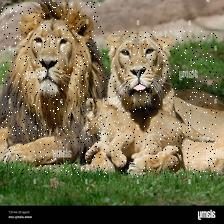Lion: (82, 32, 218, 178), (0, 3, 101, 176)
